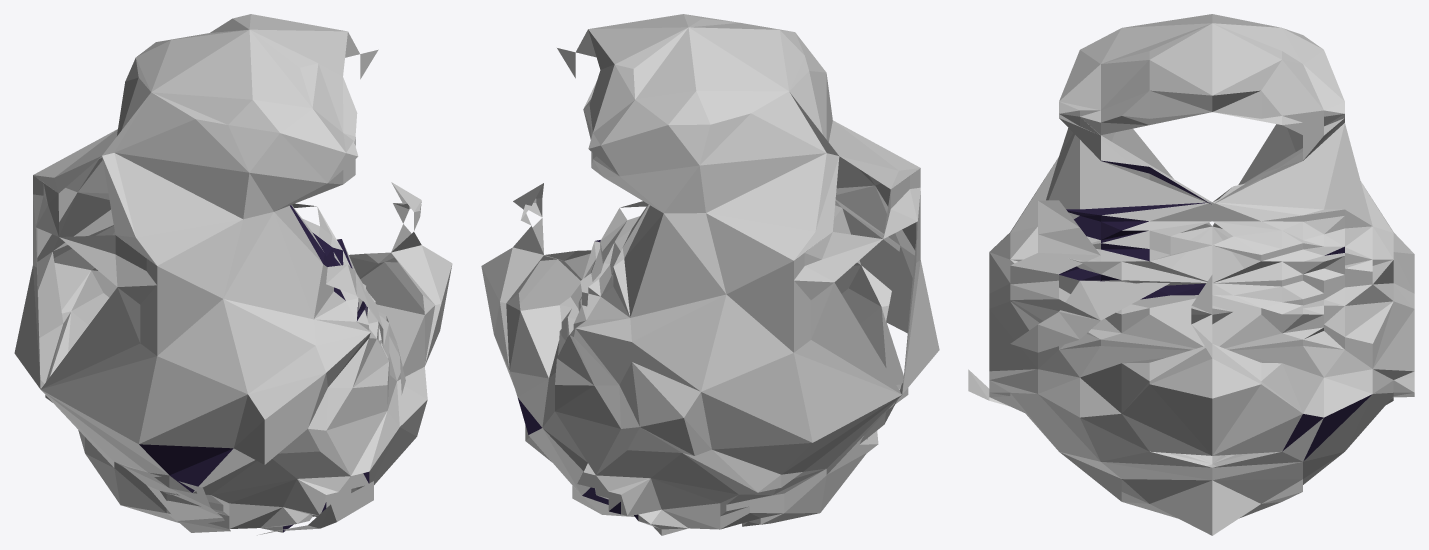
File: B11_1_voidwoven_hood.obj
3 views of the same model, side by side, from view 1: azimuth 30°, elevation 25°; view 2: azimuth 150°, elevation 25°; view 3: azimuth 270°, elevation 25° (orthographic). The views are drawn at different scales.
Parts seen in each view (by area): view 1: B11_1_voidwoven_hood; view 2: B11_1_voidwoven_hood; view 3: B11_1_voidwoven_hood.
Part boxes in pixels (x1,y1,x2,y2): B11_1_voidwoven_hood: (14, 14, 452, 535); B11_1_voidwoven_hood: (481, 14, 939, 535); B11_1_voidwoven_hood: (968, 14, 1414, 535).
Size of the model in its own units: 67 by 73 by 64.
